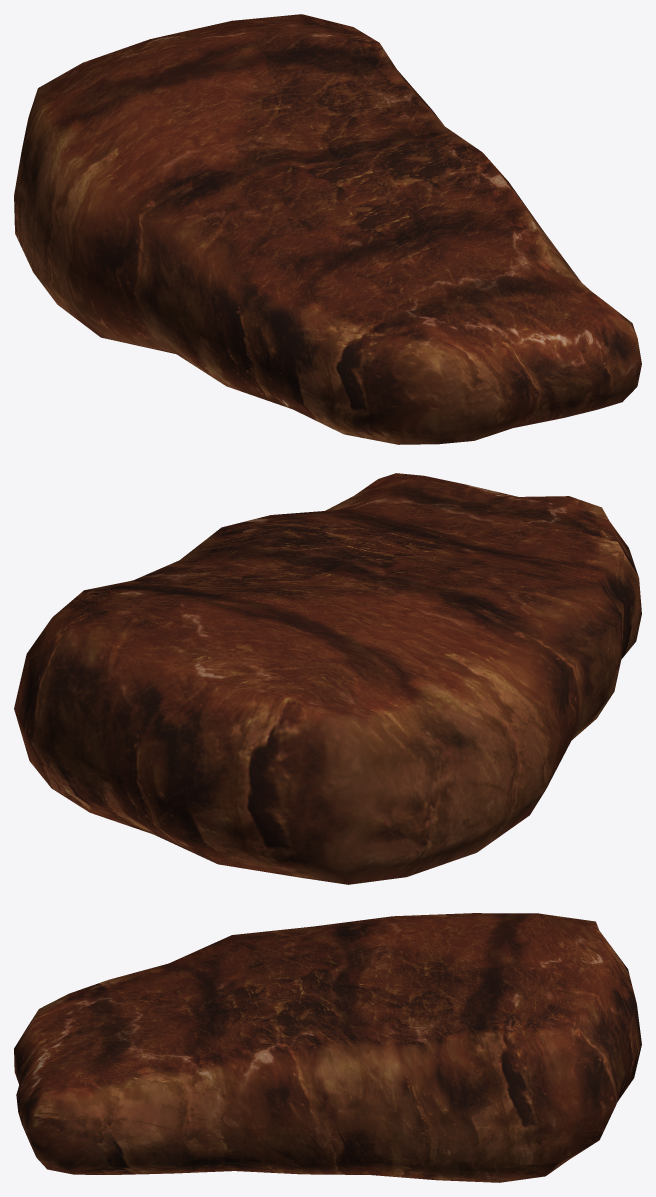
Rendered from SteakCooked.fbx.
3 views of the same model, one above another, from view 1: azimuth 30°, elevation 25°; view 2: azimuth 150°, elevation 25°; view 3: azimuth 270°, elevation 25° (orthographic). The views are drawn at different scales.
Parts seen in each view (by area): view 1: Default_Layer; view 2: Default_Layer; view 3: Default_Layer.
Boxes of the visible parts, x1,y1,x2,y2 form: Default_Layer: [14, 14, 641, 444]; Default_Layer: [14, 473, 641, 884]; Default_Layer: [14, 913, 641, 1182].
Bounding box in the file's own units: 21.23 × 10.61 × 32.75.
